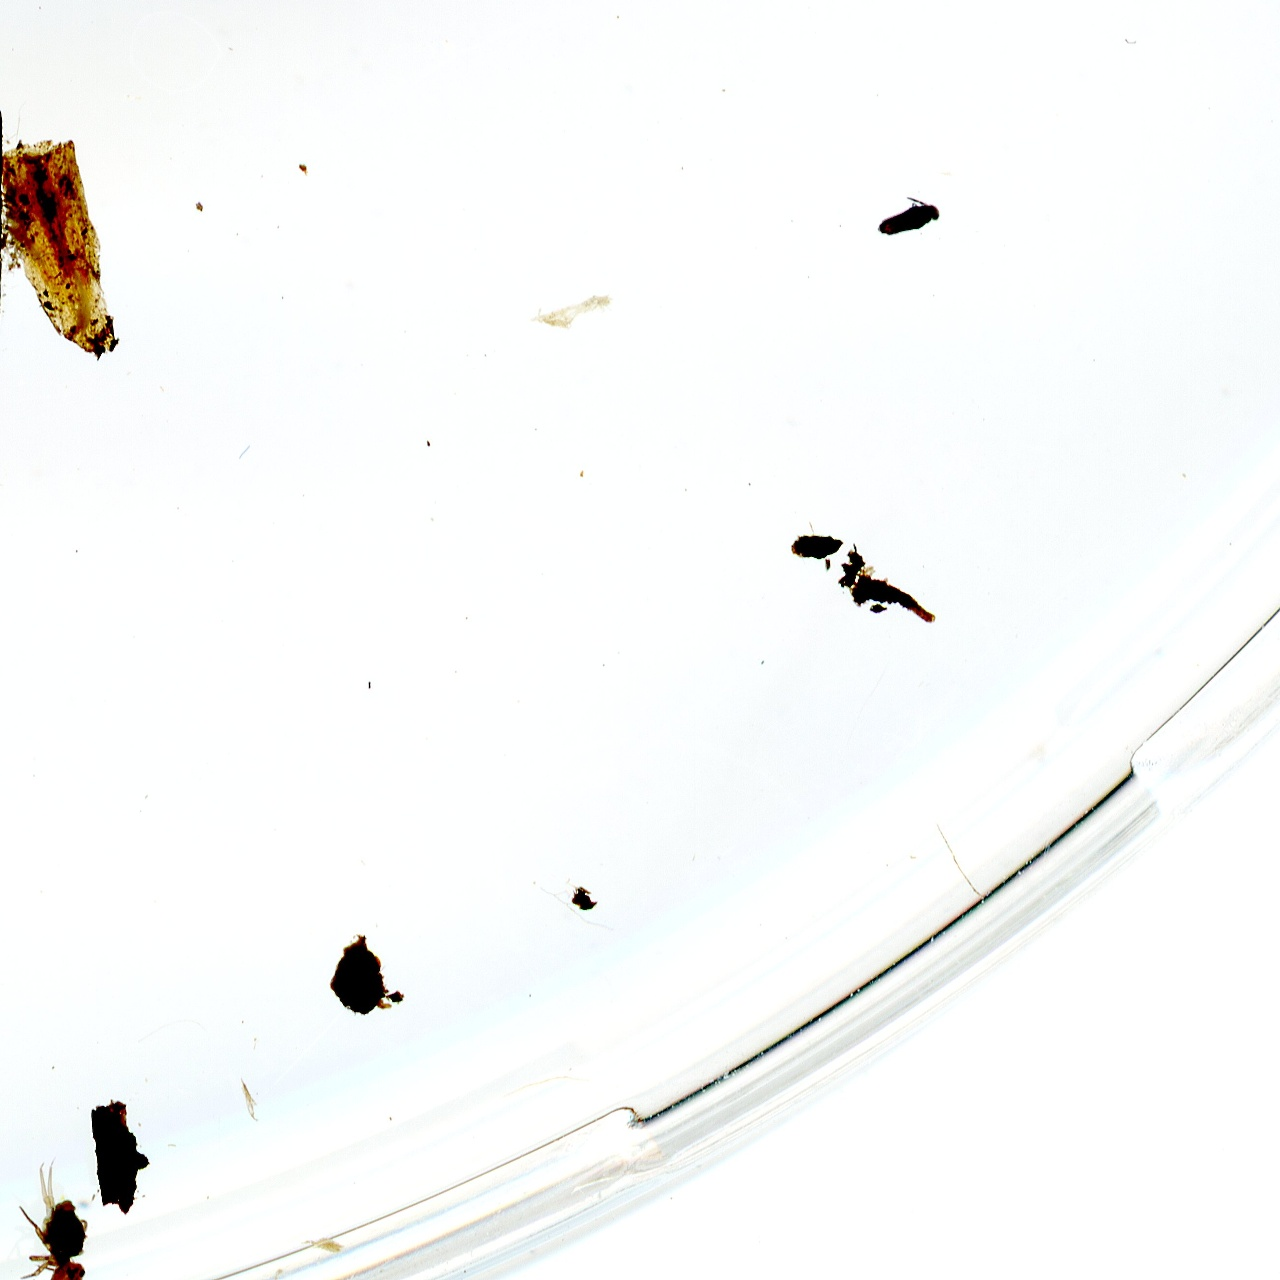arthropod: (14, 1146, 96, 1280), (866, 185, 946, 247)
